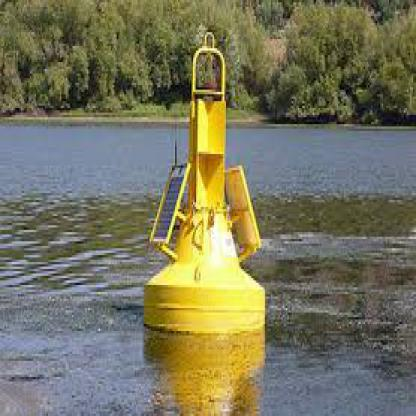buoy: (129, 19, 278, 356)
